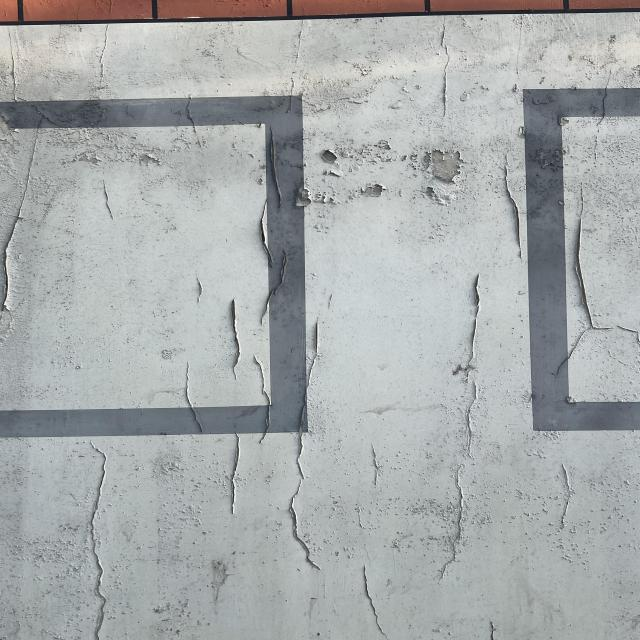crack: (438, 279, 493, 572), (286, 323, 329, 575), (562, 189, 620, 362), (68, 444, 119, 640), (244, 204, 308, 320), (6, 107, 39, 324), (499, 151, 534, 262), (167, 371, 219, 436), (249, 352, 284, 448), (221, 427, 247, 523), (358, 565, 389, 639), (216, 299, 241, 379), (91, 181, 122, 212)
spalling: (297, 137, 470, 205)
